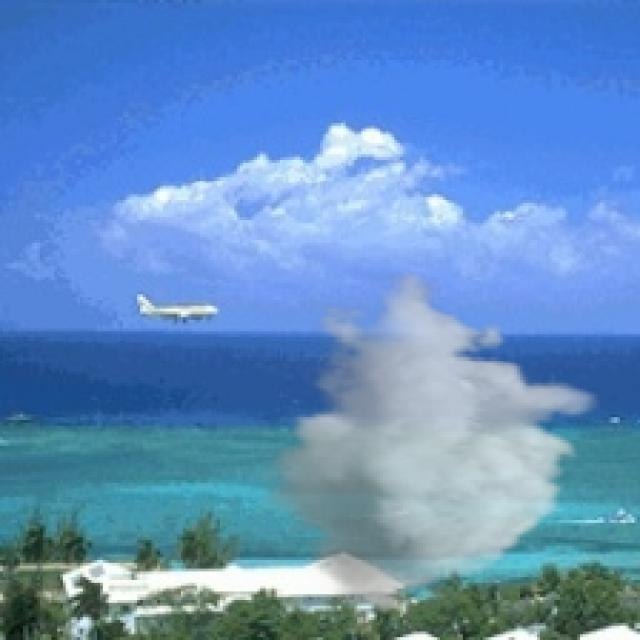Smoke: (254, 272, 603, 617)
